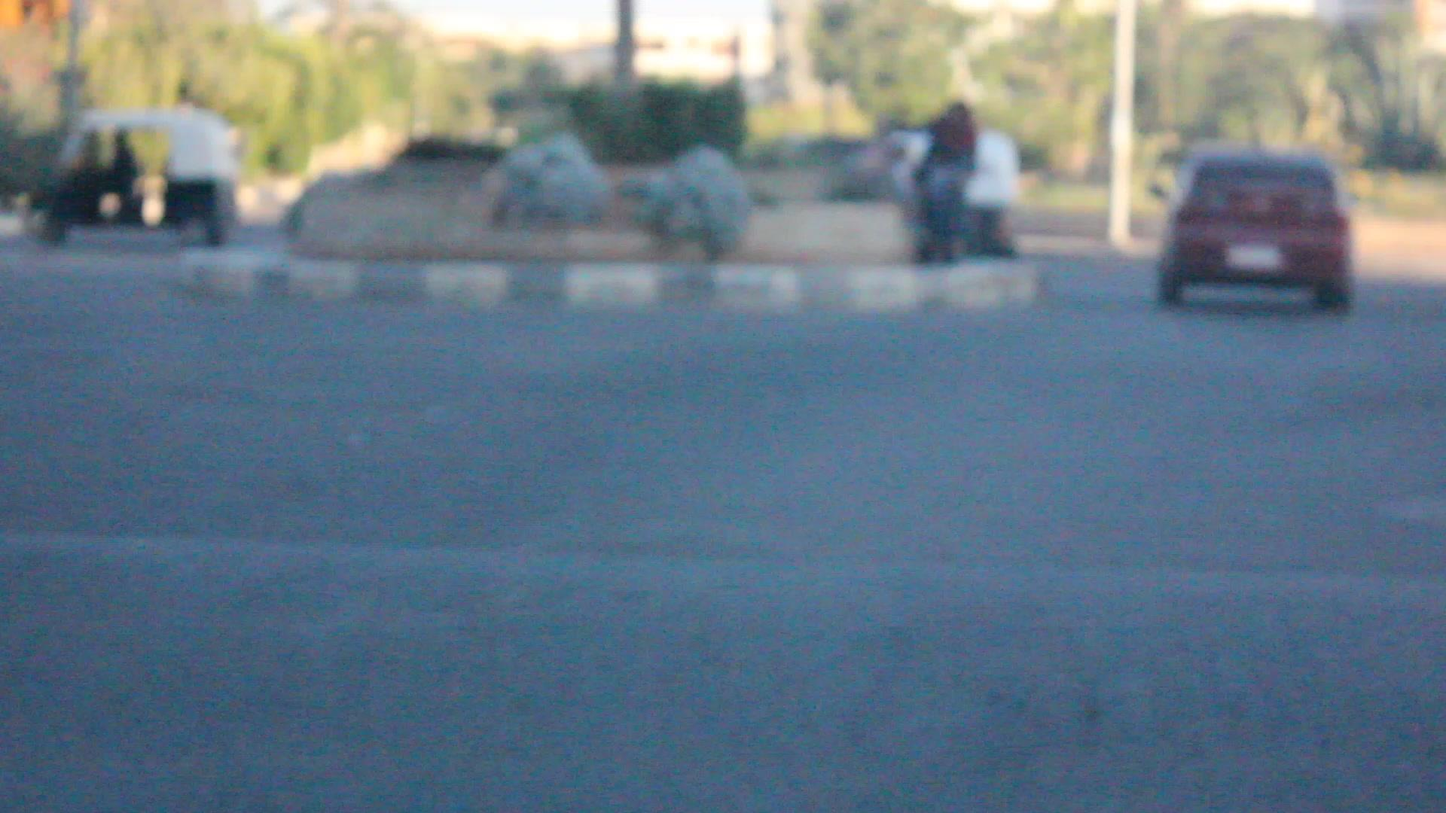Bump: (0, 495, 1446, 811)
